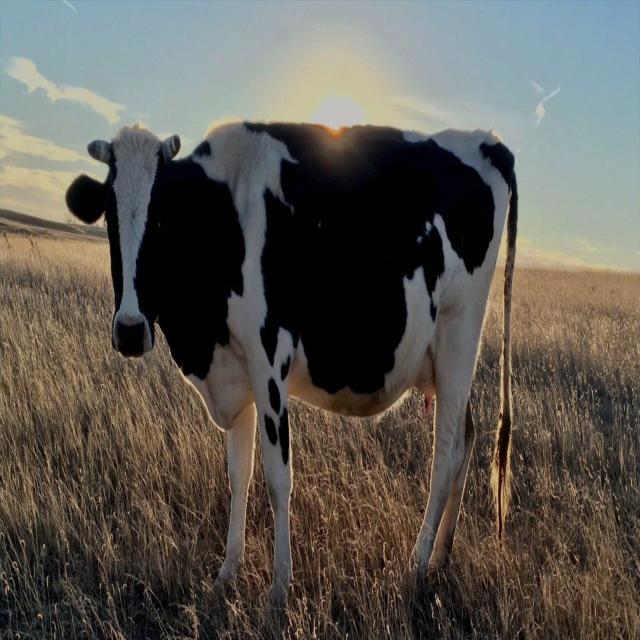cow: (62, 145, 248, 385)
